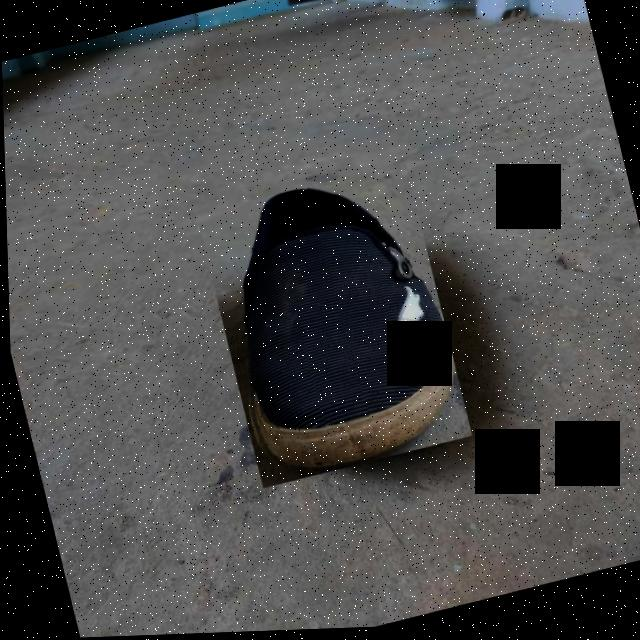shoe: (194, 163, 470, 491)
